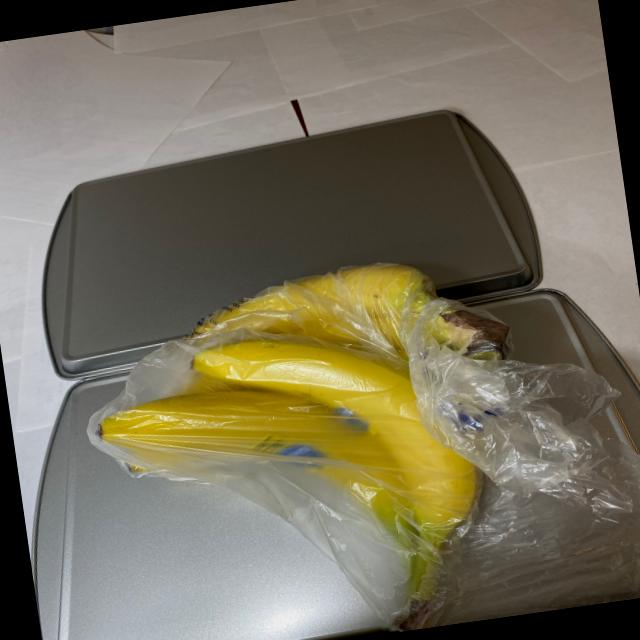banana: (72, 237, 550, 640)
